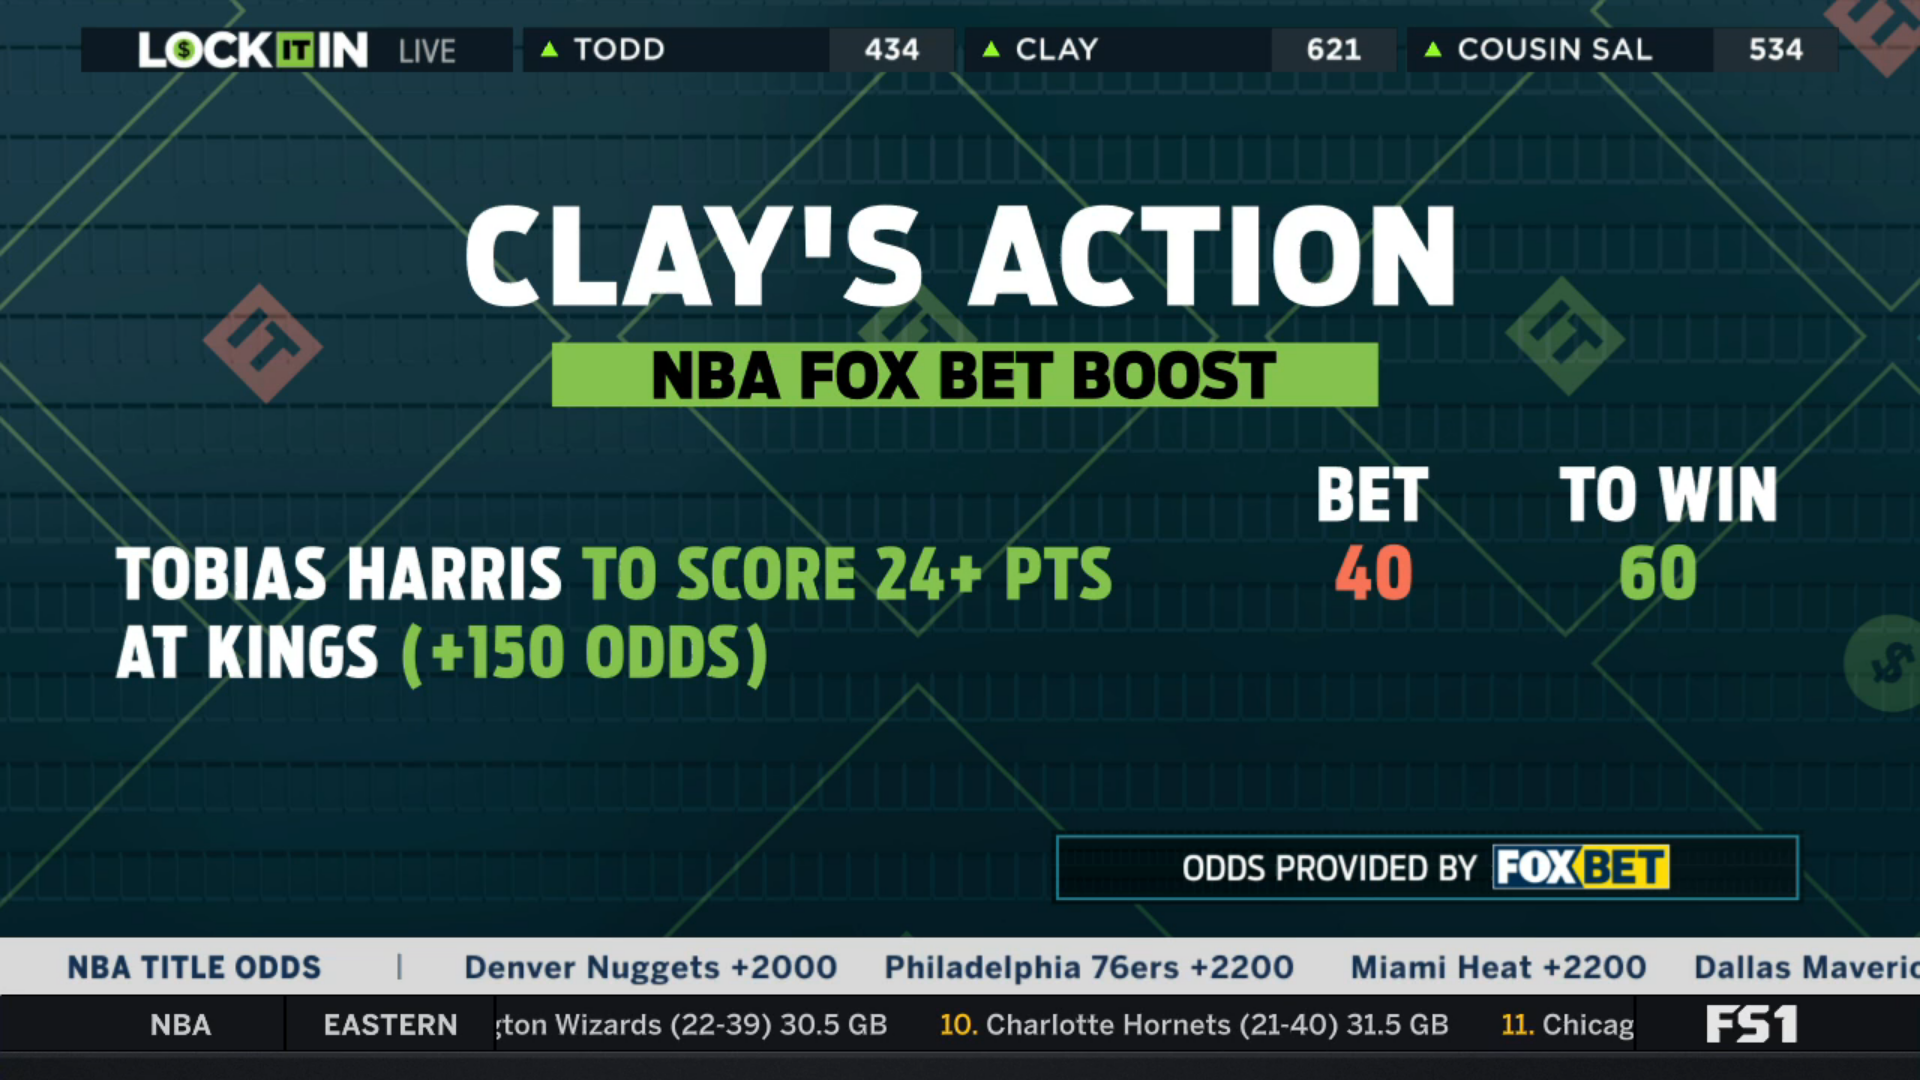Bet: (102, 531, 1125, 700)
Bet Amount: (1303, 448, 1448, 617)
Subtitle: (543, 331, 1391, 417)
Title: (455, 189, 1476, 315)
To Win: (1548, 448, 1789, 615)
Top Bar: (73, 17, 1851, 79)
